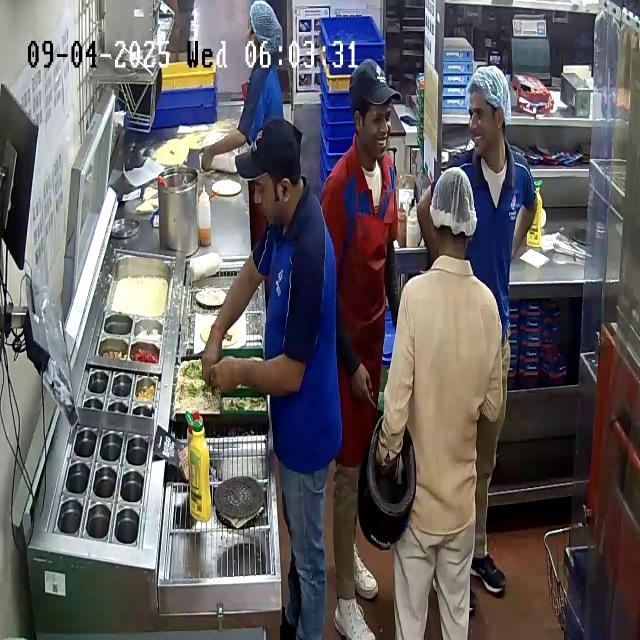helmet: (356, 414, 417, 550)
no_helmet: (235, 114, 306, 235), (349, 59, 401, 170), (467, 65, 512, 170), (429, 166, 477, 258)
